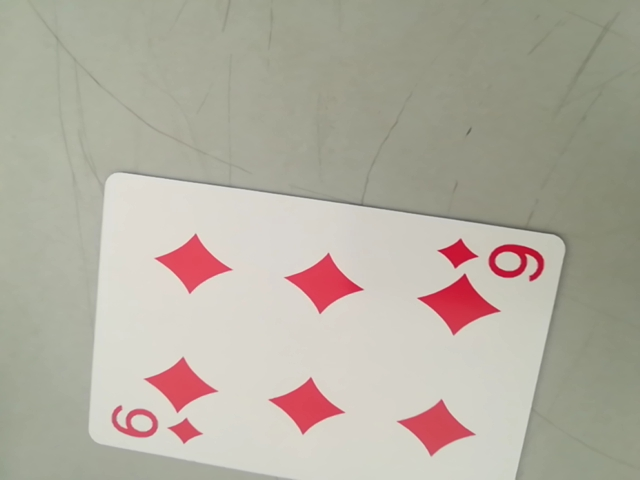fk 6: (434, 234, 550, 282), (102, 401, 208, 451)
